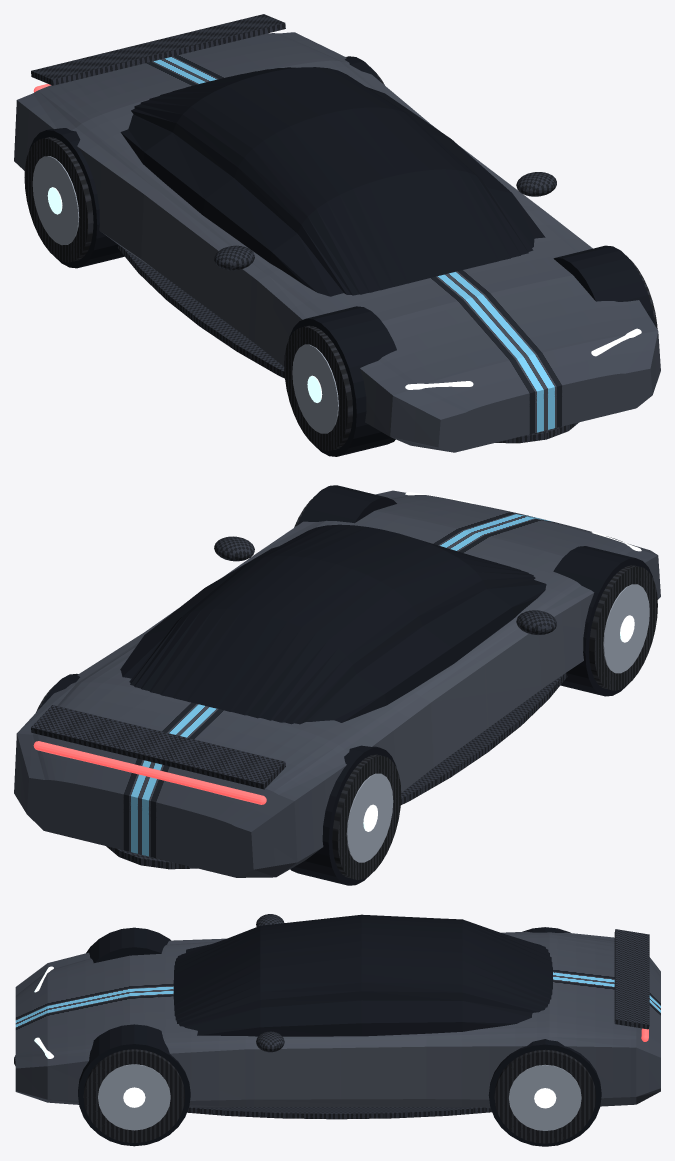
The model's file is sport_car_dark.glb.
The picture shows the model from 3 angles, top to bottom: view 1: azimuth 30°, elevation 25°; view 2: azimuth 150°, elevation 25°; view 3: azimuth 270°, elevation 25°; orthographic projection. The views are drawn at different scales.
Visible parts, largest first — view 1: car_body, cabin_canopy, wheel_well_0, rear_spoiler, aero_splitter, tire_2, wheel_well_1, tire_0, rim_0, rim_2, wheel_well_2, mirror_-1 (+1 smaller); view 2: car_body, cabin_canopy, rear_spoiler, aero_splitter, wheel_well_0, tire_2, tire_0, rim_0, rim_2, wheel_well_2, wheel_well_1, taillight_bar (+2 smaller); view 3: car_body, cabin_canopy, tire_1, tire_3, rim_1, rim_3, rear_spoiler, wheel_well_1, aero_splitter, wheel_well_3, wheel_well_0, mirror_1 (+2 smaller).
Boxes of the visible parts, left/top/right/bottom form: car_body: left=14, top=32, right=660, bottom=452; cabin_canopy: left=120, top=67, right=545, bottom=296; wheel_well_0: left=288, top=306, right=396, bottom=456; rear_spoiler: left=31, top=14, right=285, bottom=85; aero_splitter: left=118, top=245, right=578, bottom=443; tire_2: left=24, top=137, right=93, bottom=262; wheel_well_1: left=553, top=245, right=655, bottom=325; tire_0: left=284, top=325, right=352, bottom=451; rim_0: left=292, top=344, right=338, bottom=433; rim_2: left=32, top=156, right=79, bottom=245; wheel_well_2: left=29, top=128, right=124, bottom=268; mirror_-1: left=214, top=245, right=254, bottom=270; car_body: left=14, top=490, right=660, bottom=877; cabin_canopy: left=120, top=524, right=546, bottom=724; rear_spoiler: left=31, top=705, right=285, bottom=789; aero_splitter: left=106, top=673, right=567, bottom=869; wheel_well_0: left=553, top=546, right=653, bottom=696; tire_2: left=332, top=754, right=401, bottom=879; tire_0: left=589, top=565, right=657, bottom=690; rim_0: left=603, top=584, right=649, bottom=673; rim_2: left=346, top=773, right=393, bottom=862; wheel_well_2: left=290, top=745, right=396, bottom=885; wheel_well_1: left=297, top=485, right=396, bottom=525; taillight_bar: left=33, top=741, right=266, bottom=804; car_body: left=15, top=931, right=660, bottom=1108; cabin_canopy: left=173, top=914, right=552, bottom=1036; tire_1: left=83, top=1049, right=184, bottom=1142; tire_3: left=494, top=1049, right=595, bottom=1143; rim_1: left=98, top=1064, right=170, bottom=1130; rim_3: left=509, top=1064, right=581, bottom=1130; rear_spoiler: left=614, top=929, right=649, bottom=1029; wheel_well_1: left=78, top=1024, right=190, bottom=1146; aero_splitter: left=14, top=1055, right=491, bottom=1119; wheel_well_3: left=488, top=1039, right=601, bottom=1146; wheel_well_0: left=86, top=927, right=170, bottom=962; mirror_1: left=256, top=1031, right=284, bottom=1052.
Size of the model in its own units: 2.15 by 1.2 by 4.47.
7 materials, 7 textured.
